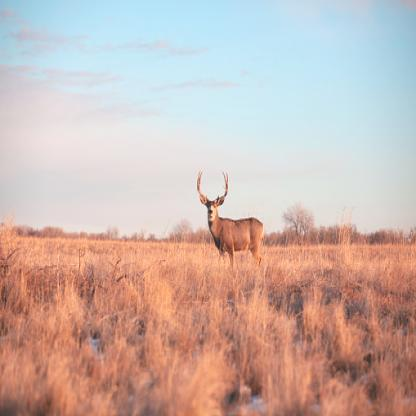Deer: (195, 169, 266, 276)
